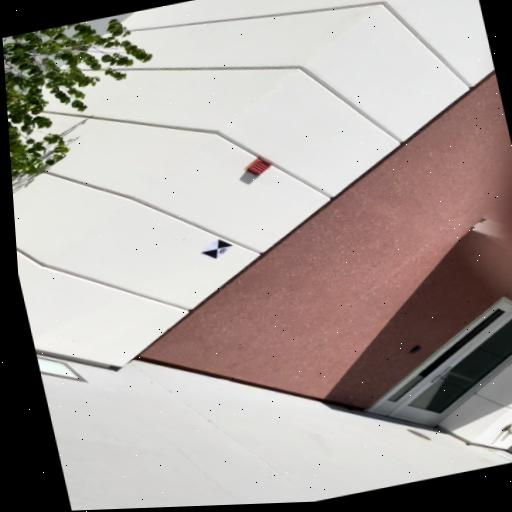target6: (199, 239, 234, 259)
